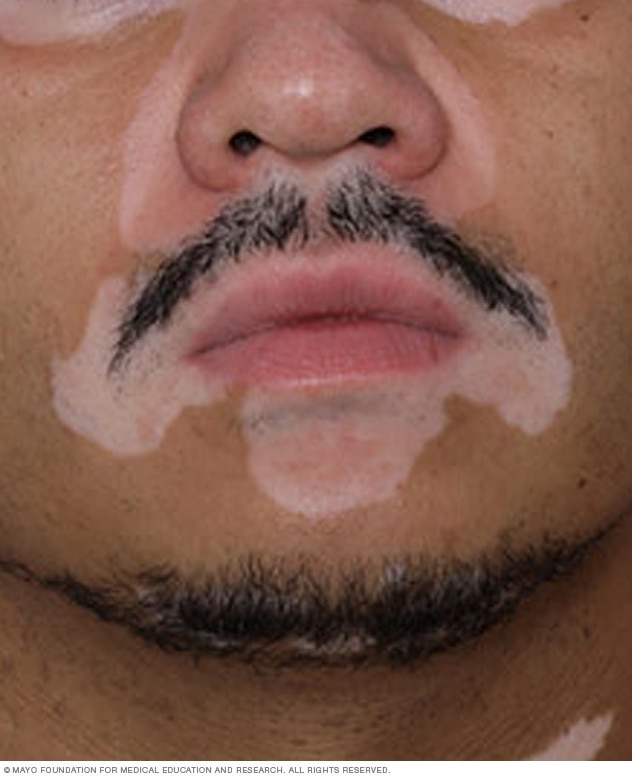vitiligo: (93, 58, 548, 479)
